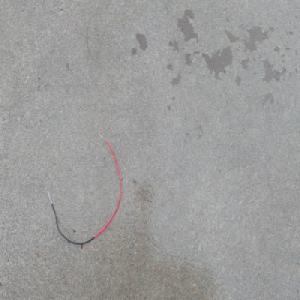Wire: (47, 129, 124, 245)
